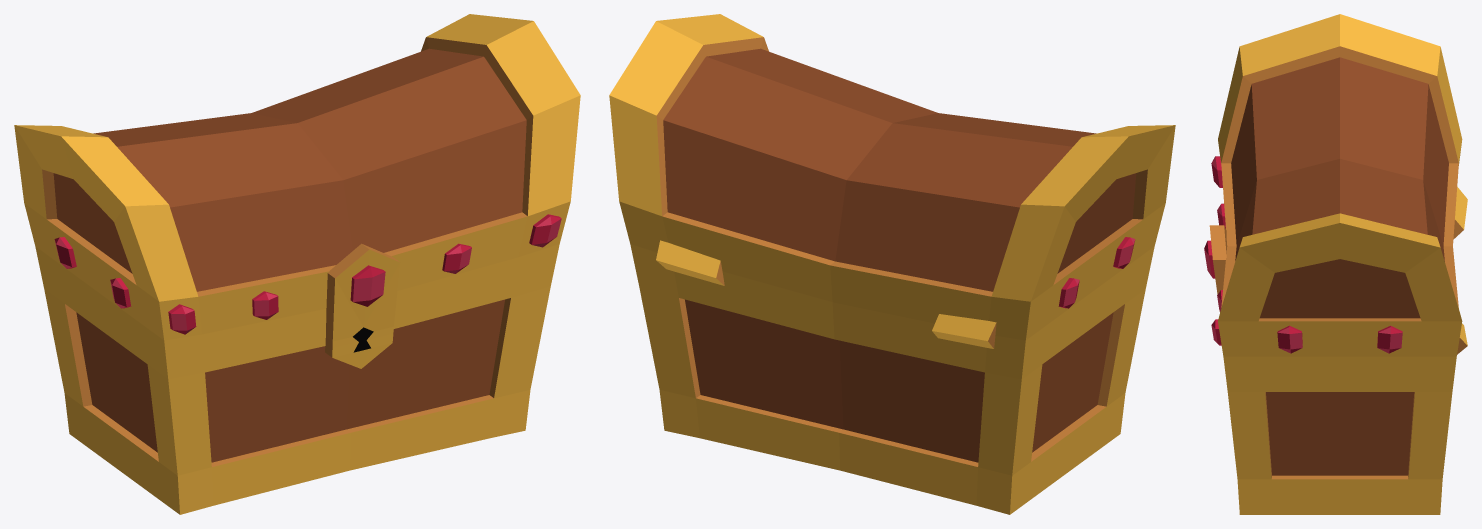
The model's file is Mesh_TreasureChest_A_Loose_Lid.fbx.
The picture shows the model from 3 angles, left to right: view 1: azimuth 30°, elevation 25°; view 2: azimuth 150°, elevation 25°; view 3: azimuth 270°, elevation 25°; orthographic projection. The views are drawn at different scales.
Parts seen in each view (by area): view 1: SM_TreasureChest_A_Lid, SM_TreasureChest_A_Base; view 2: SM_TreasureChest_A_Lid, SM_TreasureChest_A_Base; view 3: SM_TreasureChest_A_Lid, SM_TreasureChest_A_Base.
Part boxes in pixels (bbox=[...]): SM_TreasureChest_A_Lid: bbox=[14, 14, 580, 368]; SM_TreasureChest_A_Base: bbox=[35, 244, 559, 514]; SM_TreasureChest_A_Lid: bbox=[609, 14, 1175, 348]; SM_TreasureChest_A_Base: bbox=[630, 244, 1154, 514]; SM_TreasureChest_A_Lid: bbox=[1204, 14, 1467, 356]; SM_TreasureChest_A_Base: bbox=[1223, 356, 1456, 514].
Size of the model in its own units: 1.31 by 0.9392 by 0.7011.
